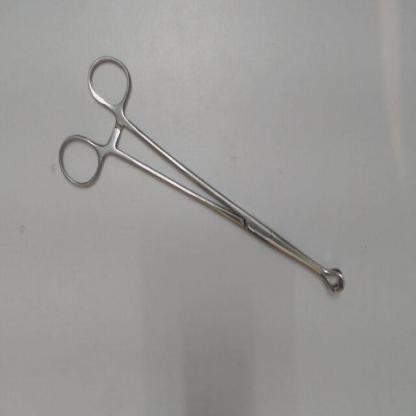8 Babcock Tissue Forceps: (51, 48, 350, 297)
